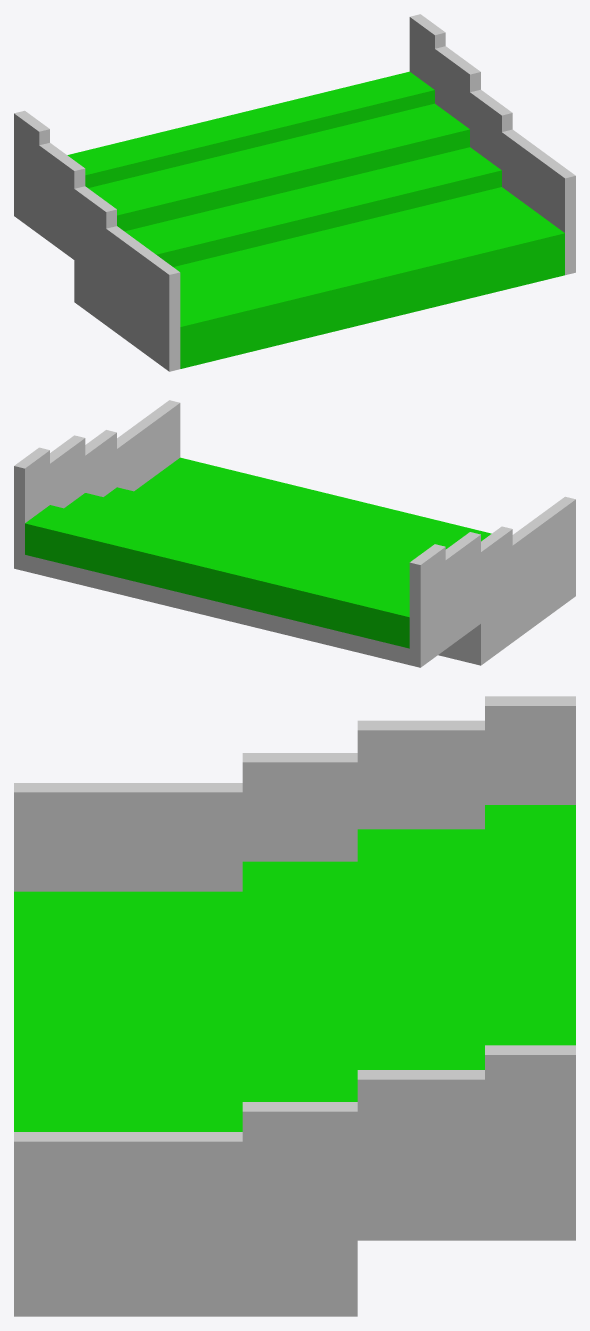
File: Stairs.dae
3 renders of one model, top to bottom at view 1: azimuth 30°, elevation 25°; view 2: azimuth 150°, elevation 25°; view 3: azimuth 270°, elevation 25°, orthographic. The views are drawn at different scales.
Parts seen in each view (by area): view 1: Stairs; view 2: Stairs; view 3: Stairs.
Part boxes in pixels (<box>): Stairs: <box>14,14,575,371</box>; Stairs: <box>14,400,575,667</box>; Stairs: <box>14,696,575,1316</box>.
Size of what is drawn, in the model's own units: 8.49 by 5.62 by 2.89.
